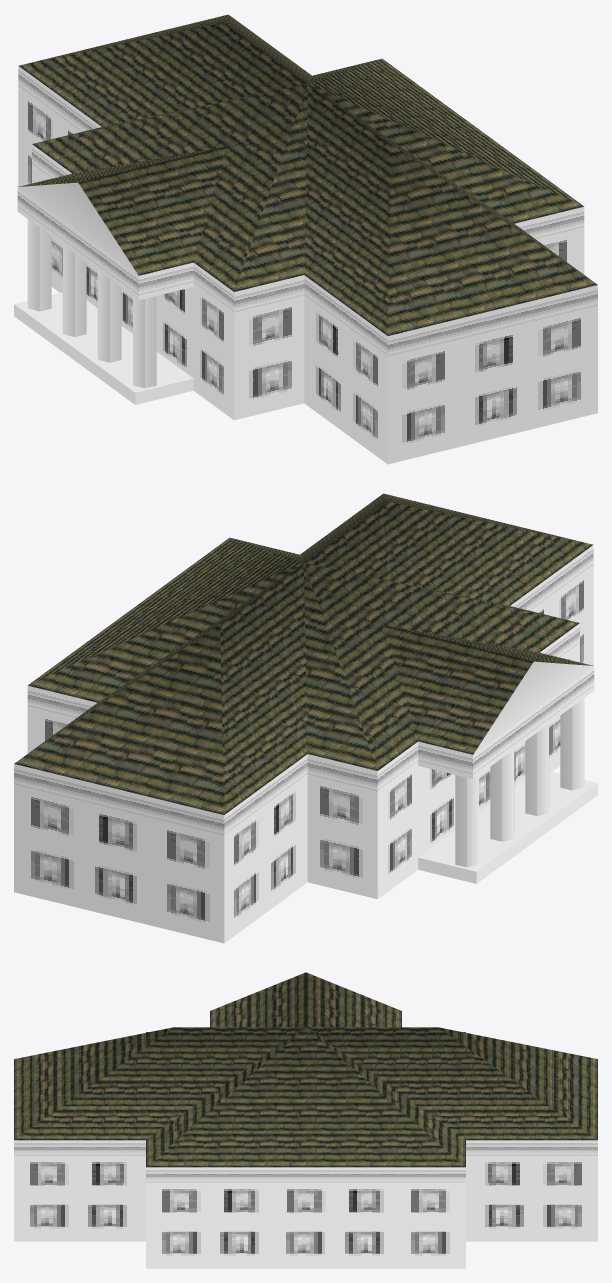
File: uvmd-0097.glb
3 renders of one model, top to bottom at view 1: azimuth 30°, elevation 25°; view 2: azimuth 150°, elevation 25°; view 3: azimuth 270°, elevation 25°, orthographic. The views are drawn at different scales.
Parts seen in each view (by area): view 1: uvmd-0097; view 2: uvmd-0097; view 3: uvmd-0097.
Boxes of the visible parts, x1,y1,x2,y2 form: uvmd-0097: (14,14,597,464); uvmd-0097: (14,493,597,943); uvmd-0097: (14,972,597,1268).
Bounding box in the file's own units: 350 × 180 × 548.
3 materials, 3 textured.
